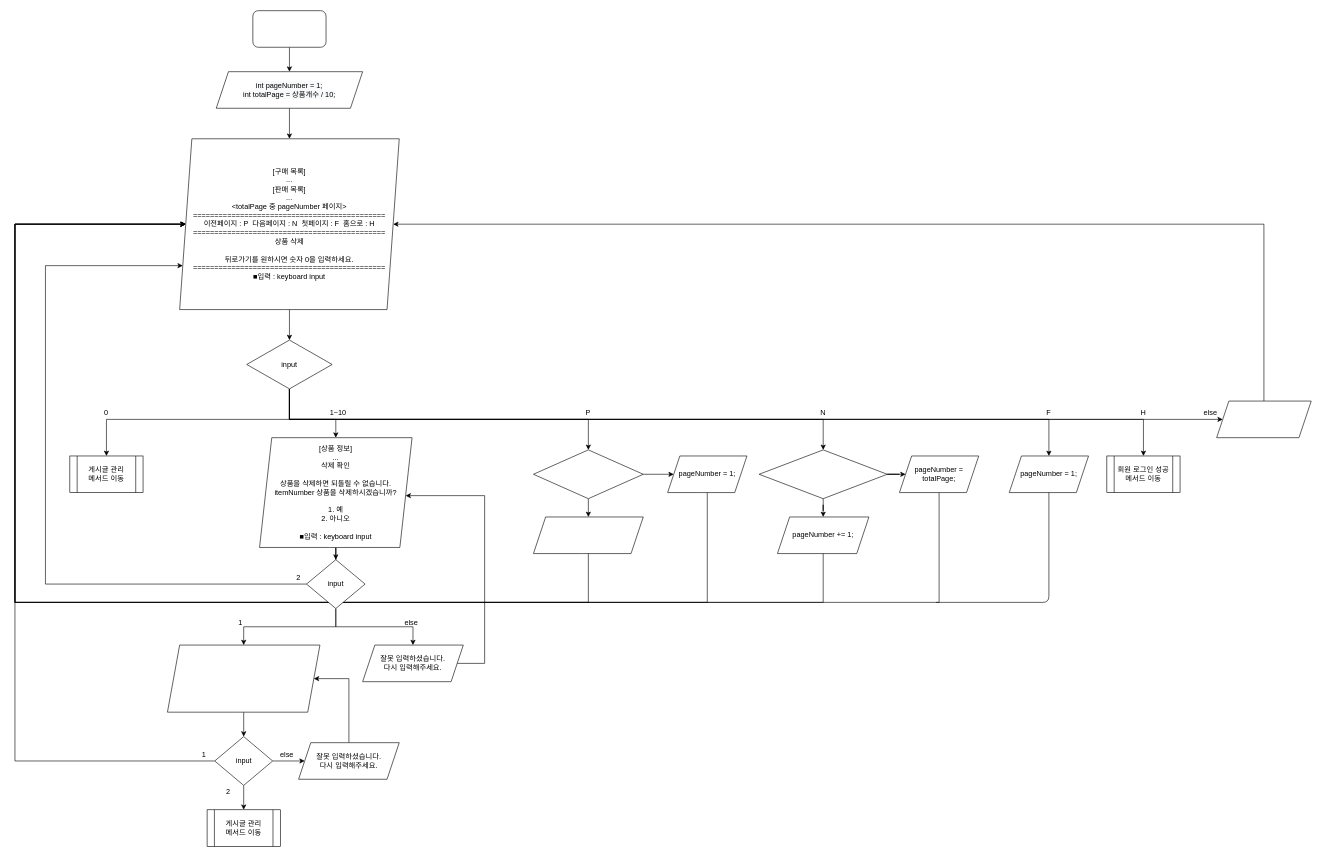
Image size: 1322x857. Some labels were removed from this diagram. The centre of each missing label's shape, as x and y in pixels:
if (pageNumber < totalPage): point 823,474
if (pageNumber > 1): point 588,474
itemNumber 상품을 삭제했습니다. 1. 추가 삭제하기 2. 나가기 ■입력 : keyboard input: point 243,678
pageNumber -= 1;: point 588,535
상품 삭제 메서드 진입: point 289,28
잘못입력하셨습니다. 다시 입력해주세요.: point 1263,419
